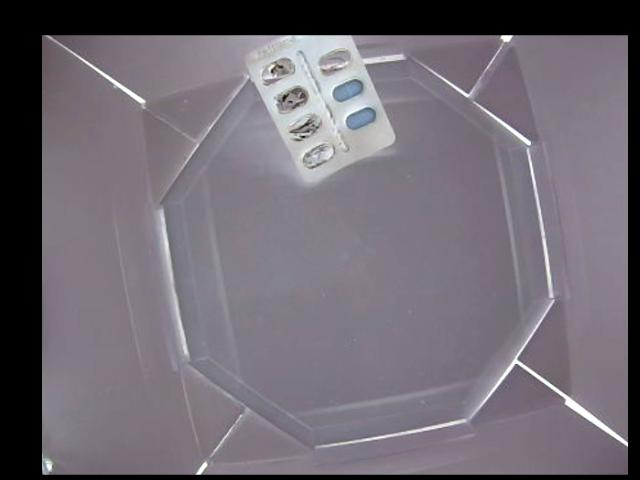Medicine: (237, 36, 398, 185)
